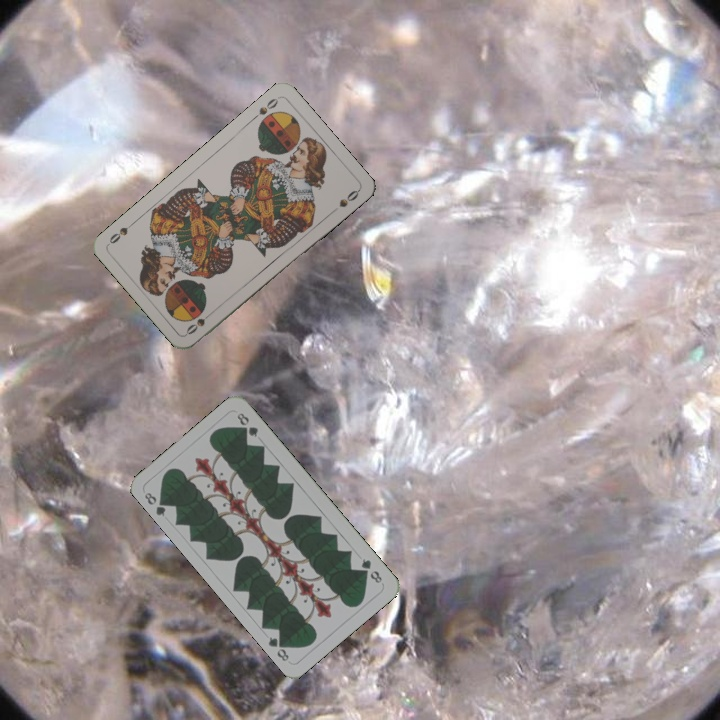G8: (140, 488, 171, 519), (357, 554, 385, 586)
SO: (182, 307, 217, 337), (248, 94, 282, 123)
